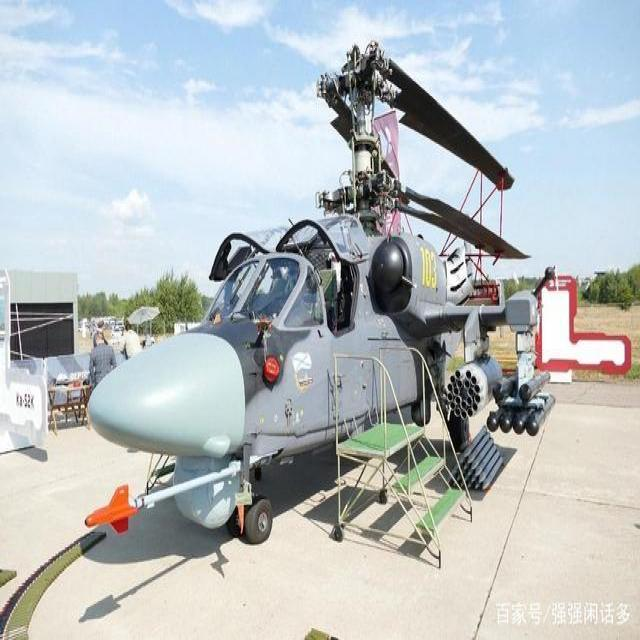MIL_HELO: (77, 32, 533, 555)
